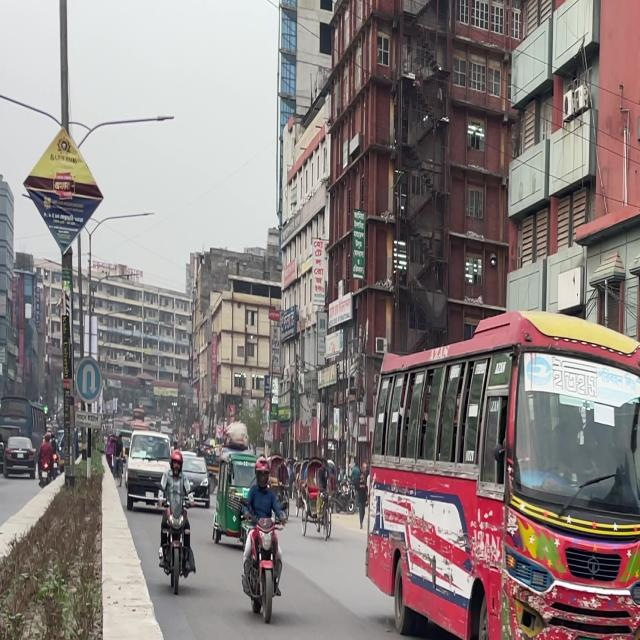bus: (347, 317, 640, 640)
car: (0, 426, 39, 483), (181, 458, 214, 510)
motorbike: (240, 532, 283, 627), (174, 521, 199, 592), (156, 514, 178, 582), (171, 499, 191, 544)
rickshaw: (213, 441, 262, 558)
